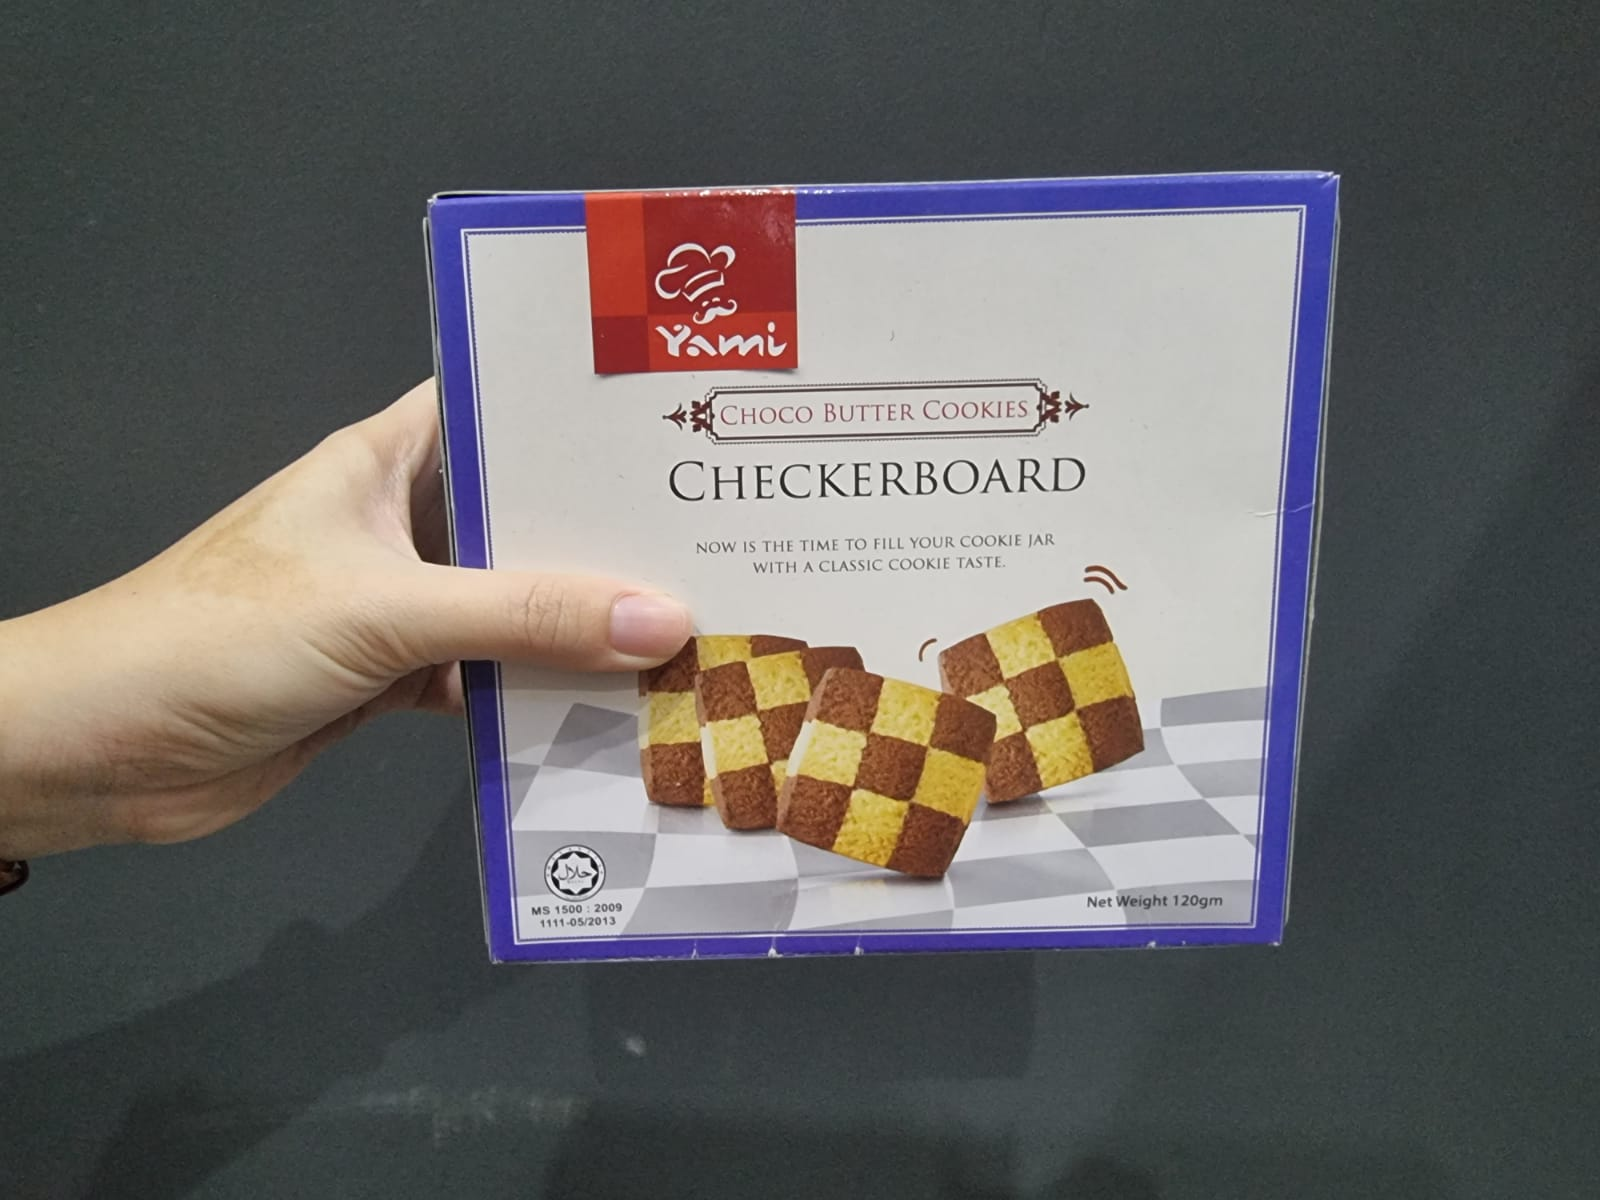Halal: (544, 845, 607, 899)
